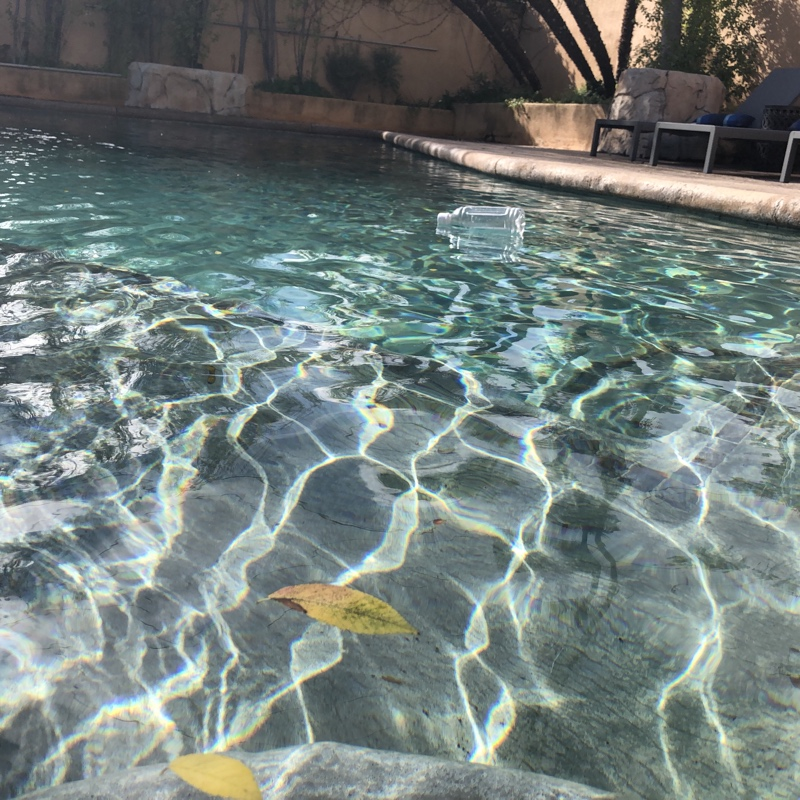Plastic Bottle: (434, 199, 531, 250)
